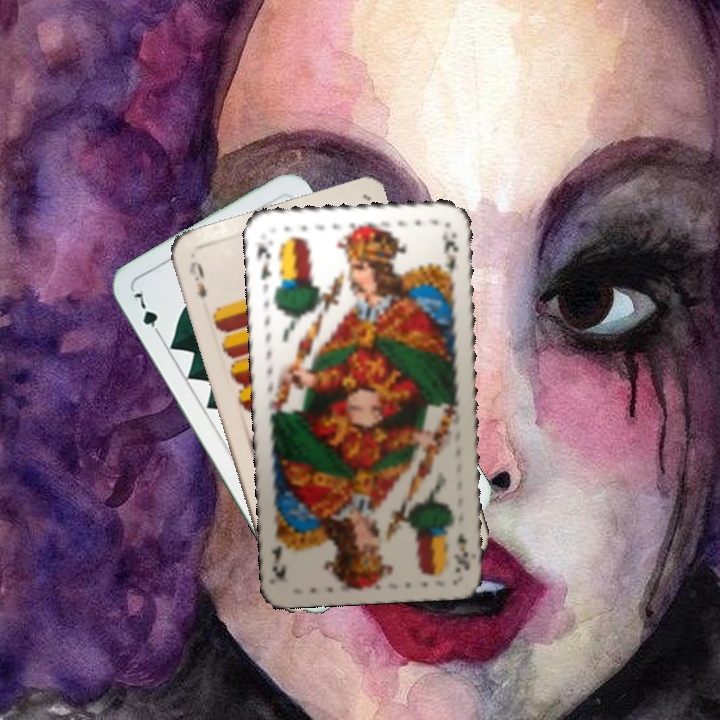E9: (185, 257, 210, 301)
EK: (252, 239, 274, 283), (452, 530, 473, 573)
G7: (128, 287, 165, 341)
